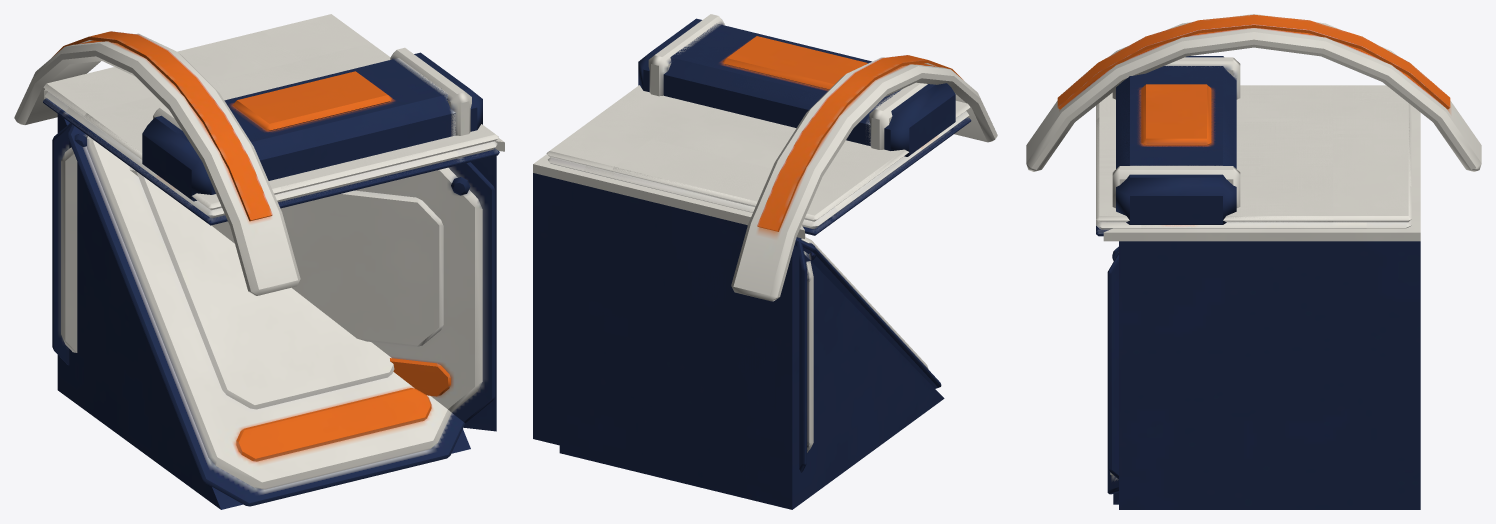
The model's file is R4H_HullKit.glb.
3 views of the same model, side by side, from view 1: azimuth 30°, elevation 25°; view 2: azimuth 150°, elevation 25°; view 3: azimuth 270°, elevation 25° (orthographic). The views are drawn at different scales.
Parts seen in each view (by area): view 1: ramp, cheek, lip, nose_0, nose_3, nose_2, plate_09, plate_04, plate_06, plate_15, plate_11, plate_14 (+10 smaller); view 2: ramp, cheek, lip, nose_0, nose_1, plate_01, nose_3, plate_06, plate_04, plate_13, nose_2, plate_07 (+9 smaller); view 3: cheek, lip, plate_05, nose_0, plate_07, plate_03, plate_01, plate_15, nose_2, nose_1, nose_3, plate_11 (+6 smaller).
Boxes of the visible parts, bbox=[...] form: ramp: bbox=[57, 114, 470, 509]; cheek: bbox=[44, 89, 504, 431]; lip: bbox=[14, 31, 300, 295]; nose_0: bbox=[153, 47, 471, 180]; nose_3: bbox=[145, 55, 479, 194]; nose_2: bbox=[142, 58, 455, 201]; plate_09: bbox=[211, 44, 499, 206]; plate_04: bbox=[135, 31, 321, 100]; plate_06: bbox=[43, 31, 322, 210]; plate_15: bbox=[46, 18, 495, 219]; plate_11: bbox=[61, 45, 499, 224]; plate_14: bbox=[43, 31, 464, 225]; ramp: bbox=[559, 185, 944, 509]; cheek: bbox=[533, 154, 815, 499]; lip: bbox=[731, 55, 997, 301]; nose_0: bbox=[648, 14, 927, 149]; nose_1: bbox=[638, 18, 897, 142]; plate_01: bbox=[611, 85, 794, 167]; nose_3: bbox=[641, 19, 952, 150]; plate_06: bbox=[594, 124, 955, 235]; plate_04: bbox=[584, 104, 795, 212]; plate_13: bbox=[546, 88, 794, 202]; nose_2: bbox=[688, 23, 955, 156]; plate_07: bbox=[548, 86, 951, 234]; cheek: bbox=[1103, 106, 1420, 509]; lip: bbox=[1026, 14, 1481, 171]; plate_05: bbox=[1145, 118, 1411, 228]; nose_0: bbox=[1112, 57, 1240, 208]; plate_07: bbox=[1227, 85, 1411, 226]; plate_03: bbox=[1141, 85, 1366, 228]; plate_01: bbox=[1225, 122, 1333, 222]; plate_15: bbox=[1096, 85, 1408, 229]; nose_2: bbox=[1116, 56, 1236, 168]; nose_1: bbox=[1116, 67, 1236, 224]; nose_3: bbox=[1116, 56, 1236, 214]; plate_11: bbox=[1096, 85, 1366, 235].
Bounding box in the file's own units: 0.565 × 0.7232 × 0.7932.
1 material, 1 textured.
